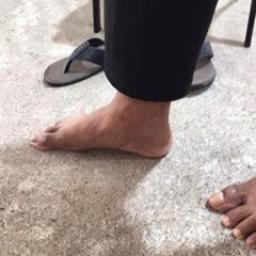Medial View -Right Foot-: (24, 84, 186, 173)
